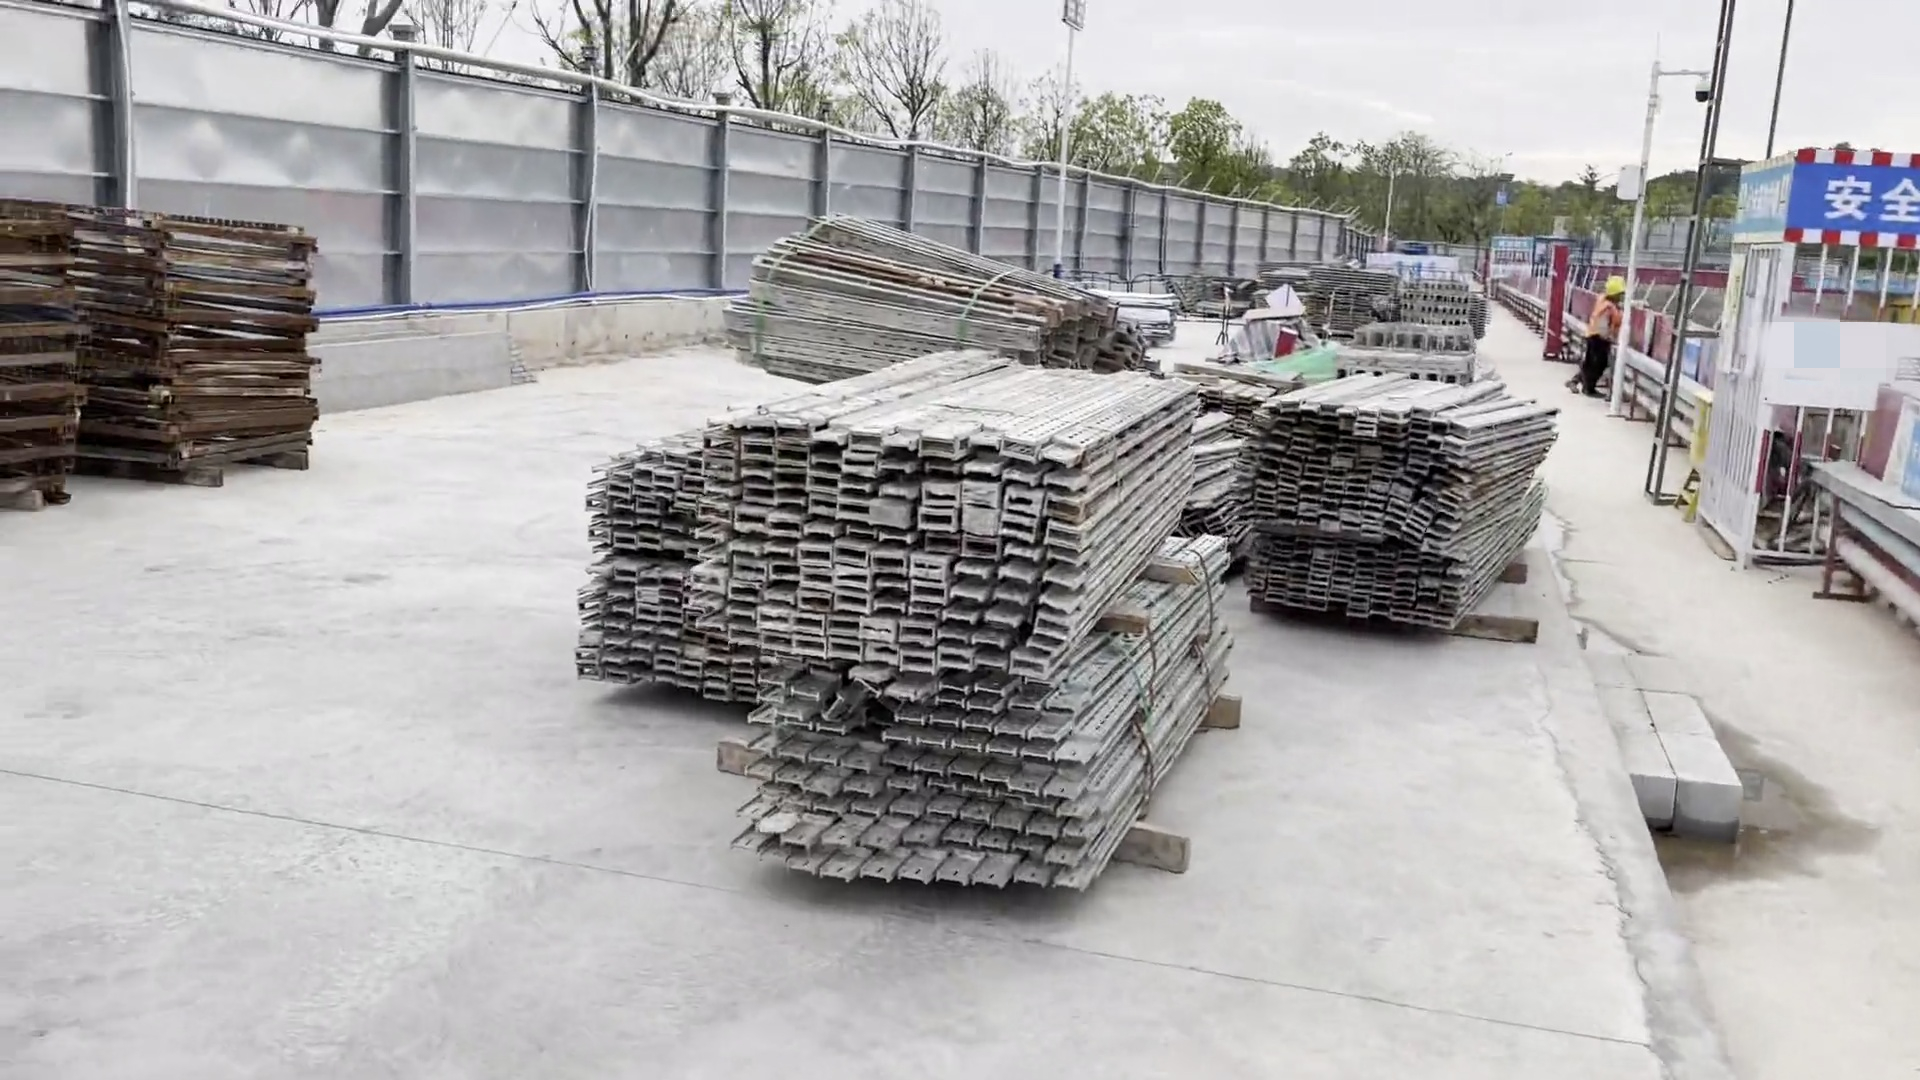brick: (1598, 642, 1765, 845)
ebox: (1677, 386, 1712, 523)
fence: (1630, 304, 1721, 408), (1864, 391, 1920, 491)
helmet: (1598, 268, 1629, 304)
person: (1571, 262, 1623, 418)
slogan: (1722, 135, 1920, 263), (1667, 315, 1717, 387), (1485, 218, 1535, 268)
vest: (1587, 299, 1625, 373)
